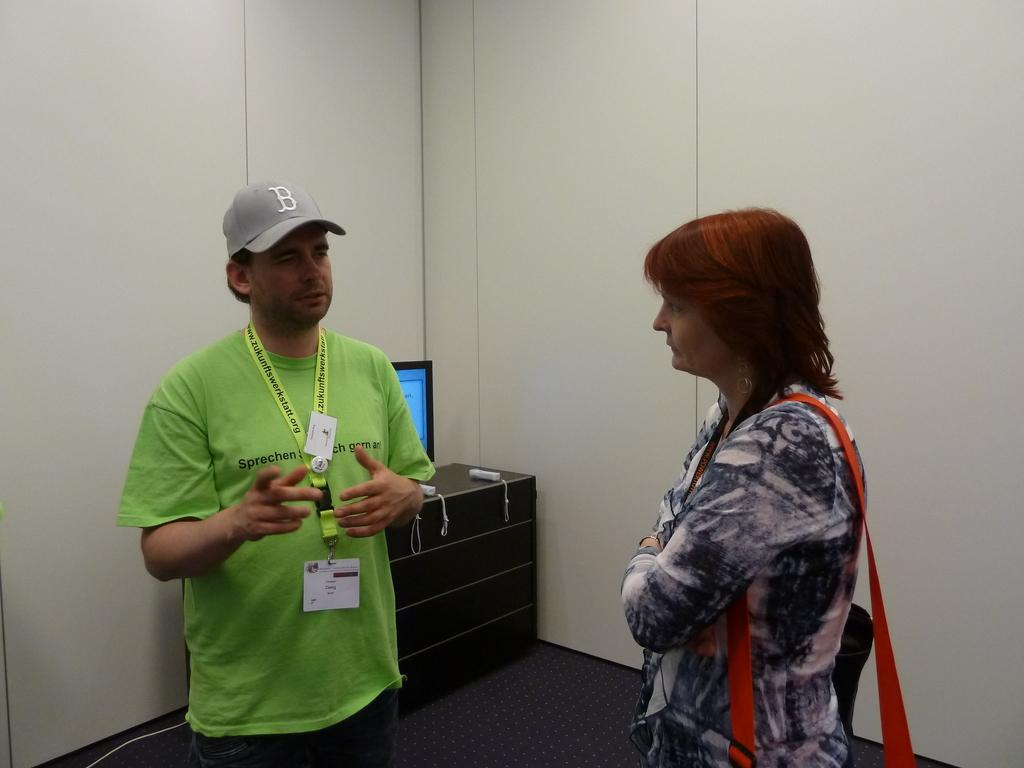Hat: (223, 176, 348, 258)
